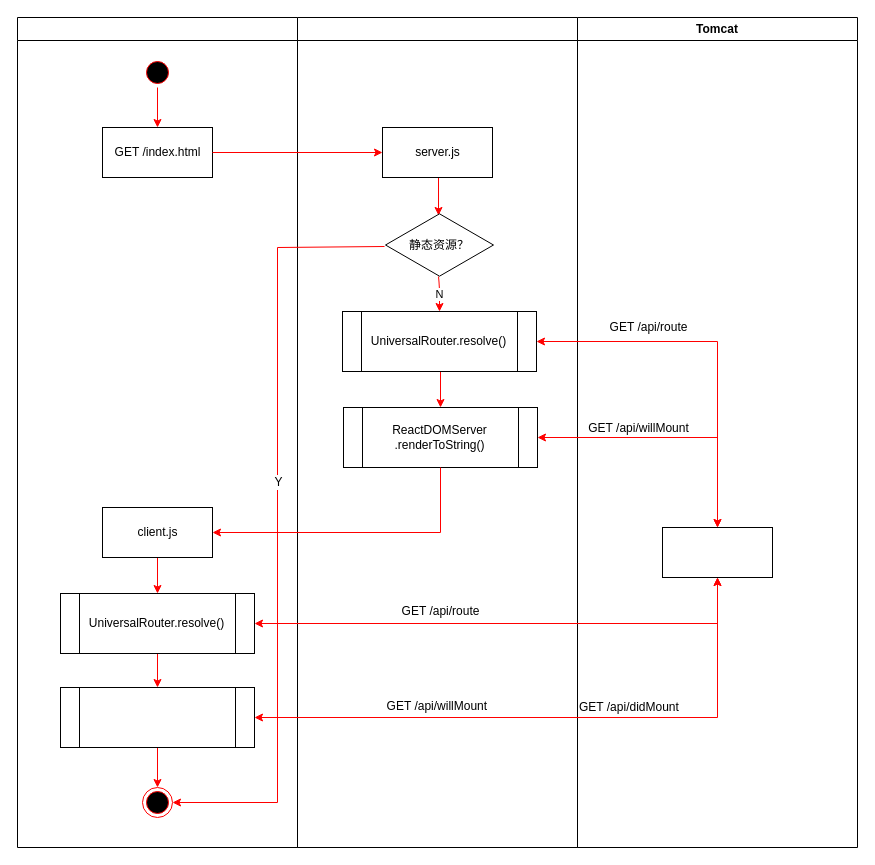
Image size: 875x865. Some labels were removed from this diagram. The shapes that lost their labels are listed below. From the top down, each one's box as (x1, y1, x2, y2) in pixels, then its label:
(16, 16, 298, 848): Browser
(296, 16, 578, 848): NodeJS
(662, 526, 772, 578): Query
(60, 686, 254, 748): ReactDOM.render()
